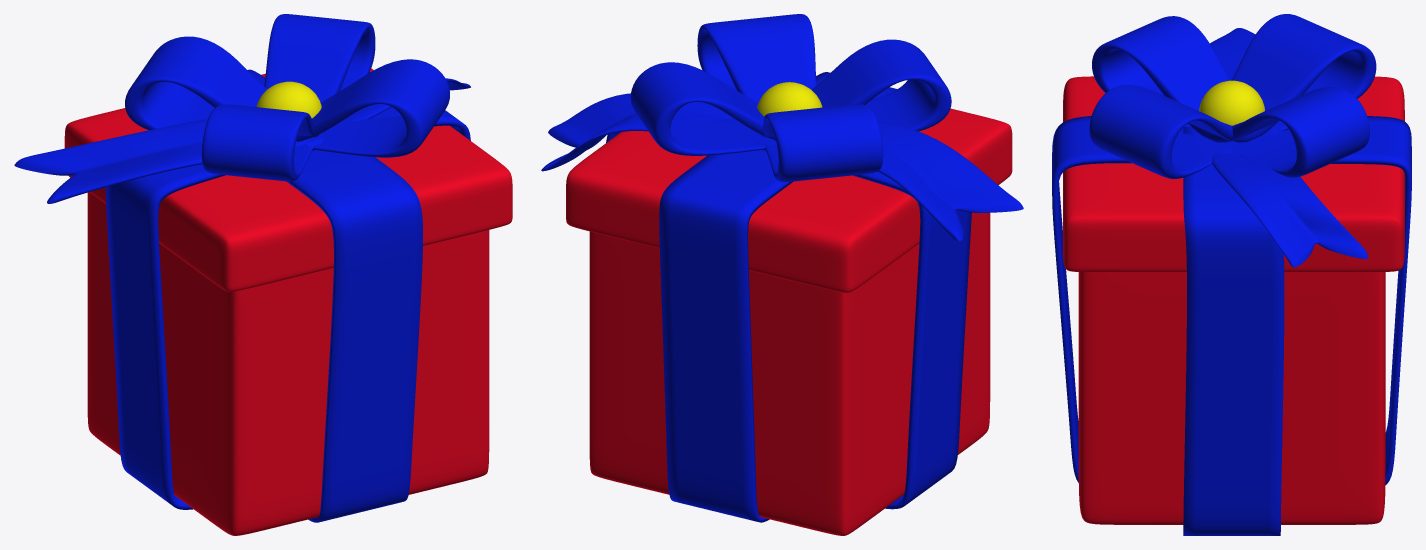
Rendered from present-merged.fbx.
The picture shows the model from 3 angles, left to right: view 1: azimuth 30°, elevation 25°; view 2: azimuth 150°, elevation 25°; view 3: azimuth 270°, elevation 25°; orthographic projection. The views are drawn at different scales.
Visible parts, largest first — view 1: Sphere; view 2: Sphere; view 3: Sphere.
Boxes of the visible parts, x1=… form: Sphere: x1=14, y1=14, x2=512, y2=535; Sphere: x1=541, y1=14, x2=1023, y2=535; Sphere: x1=1052, y1=14, x2=1411, y2=535.
Bounding box in the file's own units: 346 × 292 × 234.
